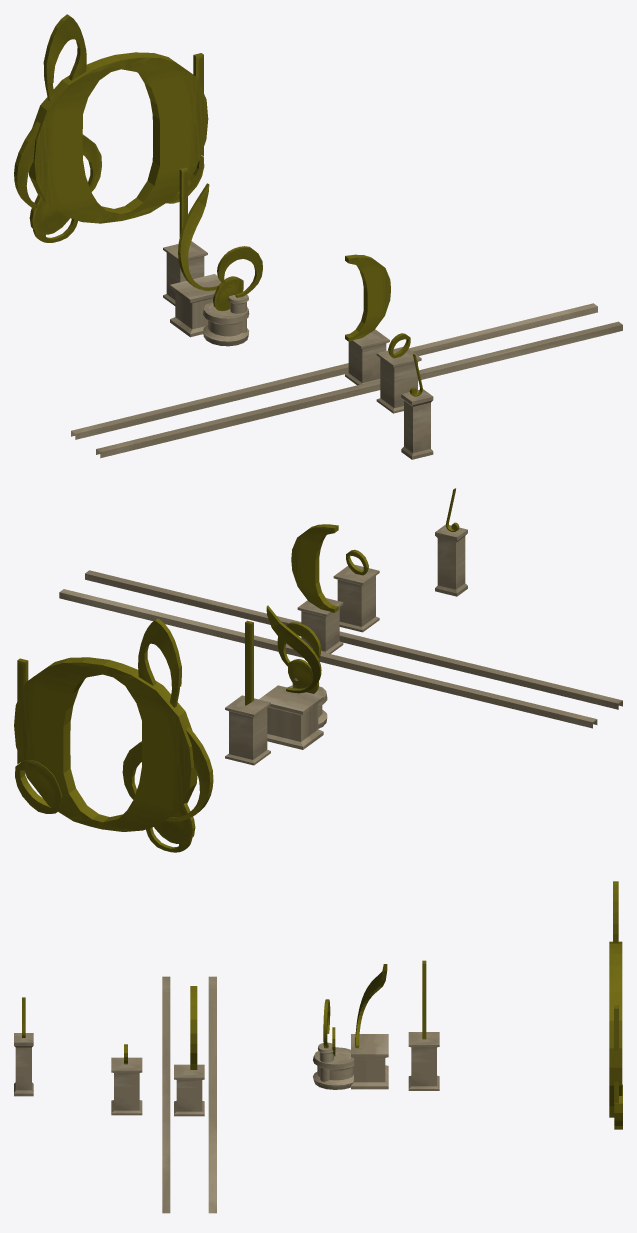
File: Puzzle_Perspective_Blocks_2.fbx
The picture shows the model from 3 angles, top to bottom: view 1: azimuth 30°, elevation 25°; view 2: azimuth 150°, elevation 25°; view 3: azimuth 270°, elevation 25°; orthographic projection. The views are drawn at different scales.
Parts seen in each view (by area): view 1: Plane.003, Plane.004, Reel 2, Reel 1, Block, Block 3, Block.001, Gate.001, Block 2.001, Block 1, Block.002, Gate Top (+3 smaller); view 2: Plane.004, Plane.003, Reel 1, Reel 2, Block 3, Block, Block.002, Block.001, Gate.001, Block 1, Gate Top, Circle.001 (+3 smaller); view 3: Block 3, Block, Reel 2, Reel 1, Block.002, Plane.003, Block.001, Block 2.001, Block 1, Block 2.
Boxes of the visible parts, bbox=[...] form: Plane.003: bbox=[115, 52, 208, 220]; Plane.004: bbox=[29, 55, 121, 223]; Reel 2: bbox=[96, 321, 622, 458]; Reel 1: bbox=[71, 303, 597, 439]; Block: bbox=[345, 254, 390, 385]; Block 3: bbox=[170, 183, 220, 337]; Block.001: bbox=[376, 333, 421, 413]; Gate.001: bbox=[14, 81, 101, 242]; Block 2.001: bbox=[203, 276, 249, 346]; Block 1: bbox=[401, 353, 433, 459]; Block.002: bbox=[163, 167, 207, 305]; Gate Top: bbox=[43, 14, 86, 82]; Plane.004: bbox=[102, 660, 197, 831]; Plane.003: bbox=[14, 657, 109, 829]; Reel 1: bbox=[59, 589, 597, 728]; Reel 2: bbox=[85, 570, 622, 709]; Block 3: bbox=[259, 605, 323, 749]; Block: bbox=[291, 524, 343, 653]; Block.002: bbox=[225, 620, 270, 765]; Block.001: bbox=[333, 549, 379, 632]; Gate.001: bbox=[122, 687, 213, 852]; Block 1: bbox=[435, 488, 467, 596]; Gate Top: bbox=[138, 618, 181, 687]; Circle.001: bbox=[15, 760, 62, 813]; Block 3: bbox=[351, 964, 388, 1089]; Block: bbox=[174, 986, 204, 1116]; Reel 2: bbox=[162, 976, 170, 1213]; Reel 1: bbox=[208, 976, 216, 1213]; Block.002: bbox=[408, 960, 439, 1090]; Plane.003: bbox=[609, 954, 622, 1117]; Block.001: bbox=[111, 1044, 142, 1115]; Block 2.001: bbox=[313, 1027, 353, 1089]; Block 1: bbox=[14, 997, 33, 1096]; Block 2: bbox=[318, 999, 335, 1087].
Size of the model in its own units: 1279 by 522 by 1391.
